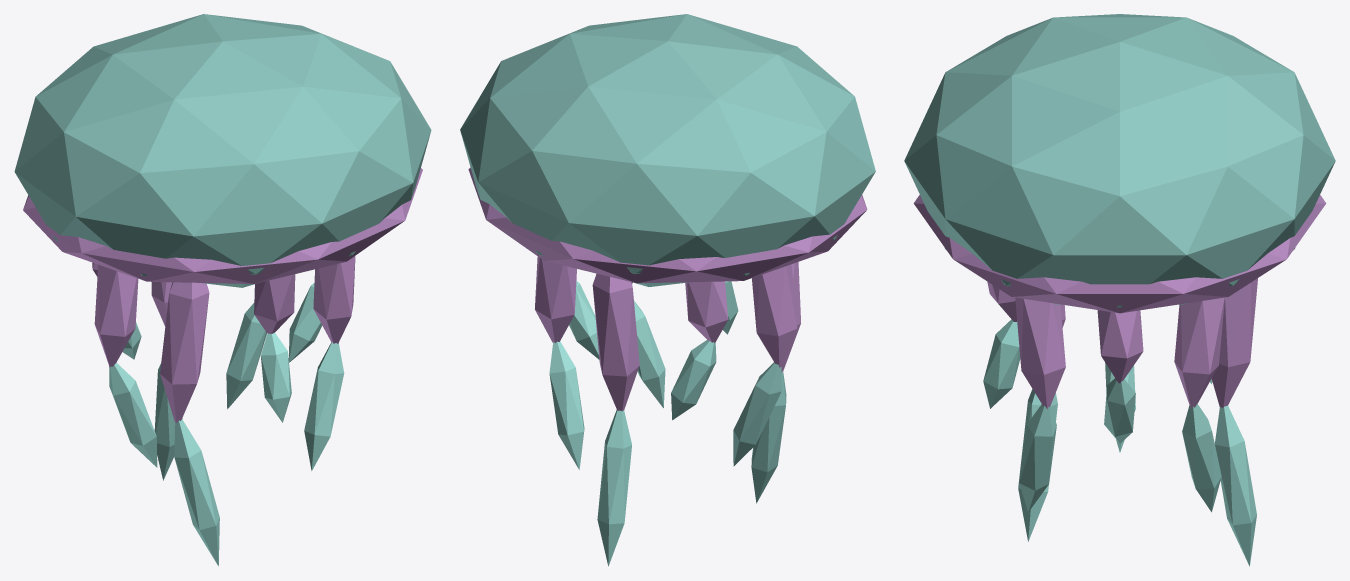
The model's file is wild_jelly.glb.
3 renders of one model, left to right at view 1: azimuth 30°, elevation 25°; view 2: azimuth 150°, elevation 25°; view 3: azimuth 270°, elevation 25°, orthographic. The views are drawn at different scales.
Parts seen in each view (by area): view 1: Opaline bell, Ruffled arm; view 2: Opaline bell, Ruffled arm; view 3: Opaline bell, Ruffled arm.
Part boxes in pixels (x1=…): Opaline bell: x1=14, y1=14, x2=431, y2=287; Ruffled arm: x1=92, y1=256, x2=355, y2=566; Opaline bell: x1=460, y1=14, x2=875, y2=286; Ruffled arm: x1=535, y1=256, x2=800, y2=566; Opaline bell: x1=904, y1=14, x2=1335, y2=313; Ruffled arm: x1=983, y1=278, x2=1257, y2=566.
Size of the model in its own units: 0.4755 by 0.6176 by 0.46.
